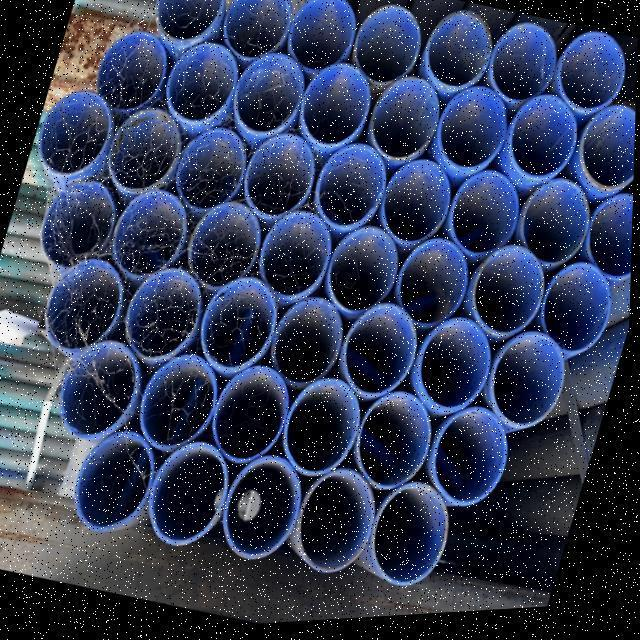pipe: (142, 442, 242, 554), (292, 471, 385, 580), (360, 485, 454, 591), (70, 429, 164, 532), (482, 331, 572, 437), (217, 457, 303, 566), (425, 407, 513, 513), (55, 337, 141, 440), (350, 394, 436, 497), (284, 378, 368, 482), (196, 278, 286, 375), (212, 366, 295, 466), (135, 353, 216, 453), (415, 320, 497, 418), (45, 259, 126, 356), (267, 299, 352, 391), (126, 265, 206, 362), (342, 307, 423, 402), (108, 183, 189, 276), (89, 29, 178, 113), (160, 40, 245, 127), (470, 246, 547, 342), (103, 105, 185, 195), (434, 85, 514, 177), (397, 236, 473, 332), (239, 130, 319, 221), (185, 195, 263, 288), (312, 143, 390, 236), (540, 264, 614, 362), (228, 52, 310, 140), (364, 75, 443, 166), (36, 175, 114, 267), (326, 226, 404, 318), (445, 171, 522, 263), (256, 212, 336, 300), (503, 98, 580, 189), (519, 177, 593, 271), (380, 159, 455, 250), (172, 125, 250, 212), (33, 83, 107, 173), (295, 66, 372, 152), (481, 26, 558, 108), (347, 5, 421, 89), (280, 0, 357, 79), (422, 13, 497, 94), (554, 37, 629, 115), (573, 109, 637, 200), (222, 0, 298, 62), (588, 193, 635, 286), (153, 0, 225, 44)
